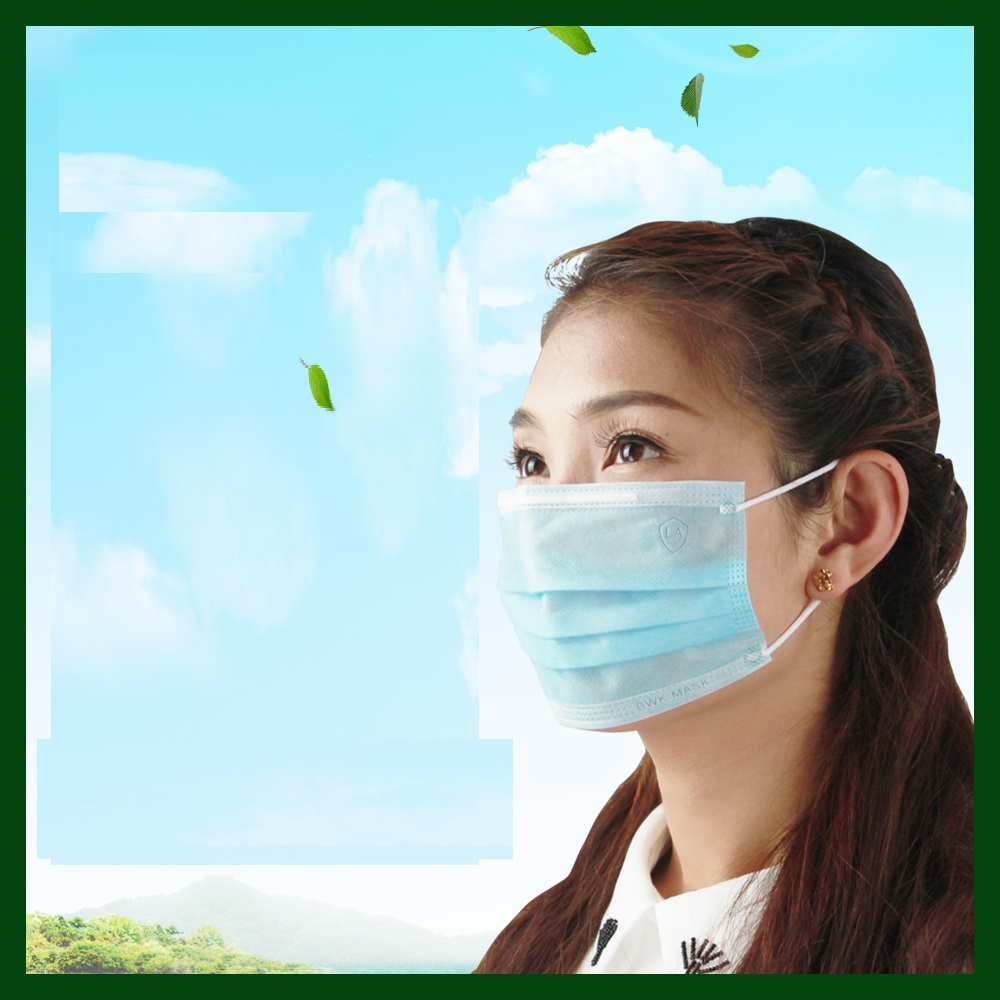face_mask: (501, 301, 792, 706)
